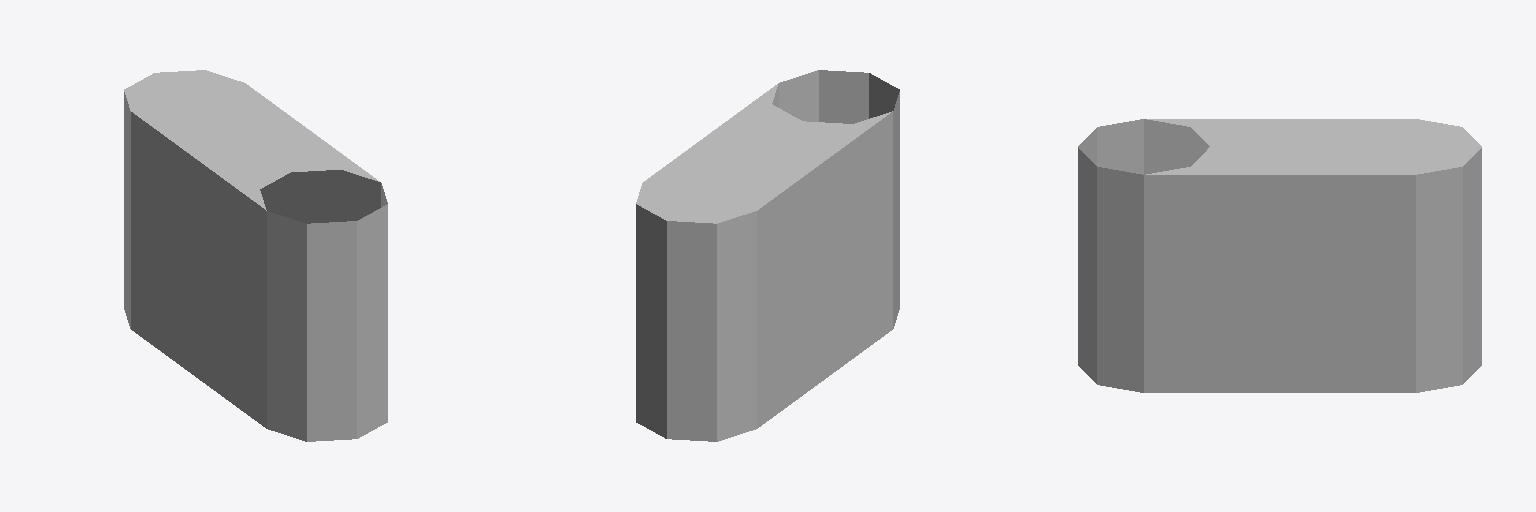
Rendered from ovalbridgepillar.obj.
The picture shows the model from 3 angles: view 1: azimuth 30°, elevation 25°; view 2: azimuth 150°, elevation 25°; view 3: azimuth 270°, elevation 25°; orthographic projection.
Parts seen in each view (by area): view 1: Cylinder; view 2: Cylinder; view 3: Cylinder.
Boxes of the visible parts, x1=… form: Cylinder: x1=124, y1=70, x2=387, y2=441; Cylinder: x1=636, y1=70, x2=899, y2=441; Cylinder: x1=1078, y1=119, x2=1481, y2=392.
Bounding box in the file's own units: 0.5984 × 1.09 × 1.83.